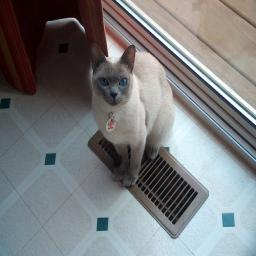catnose: (110, 92, 119, 100)
